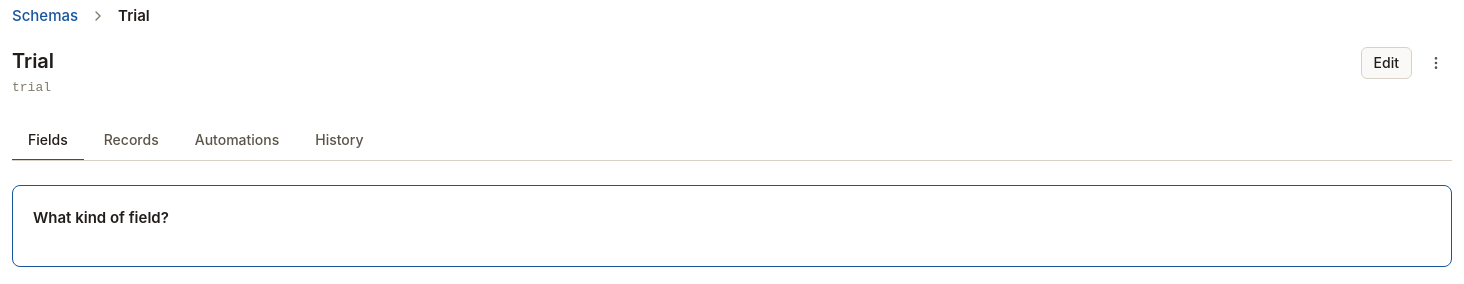
Test case: SchemaDetailPage › keeps delete out of the way, in the actions menu
Expected: the tab "Fields" is shown, [12,121,84,161]
Expected: the menu item "Delete schema" is not shown
Click the button named "More actions": (1436, 63) [1420,47,1452,79]
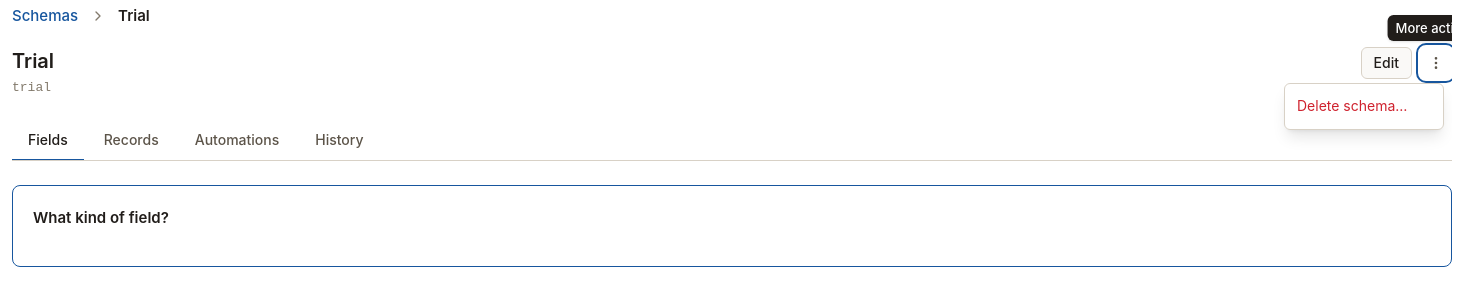
Now the menu item "Delete schema…" is shown, box [1285,88,1443,125]
